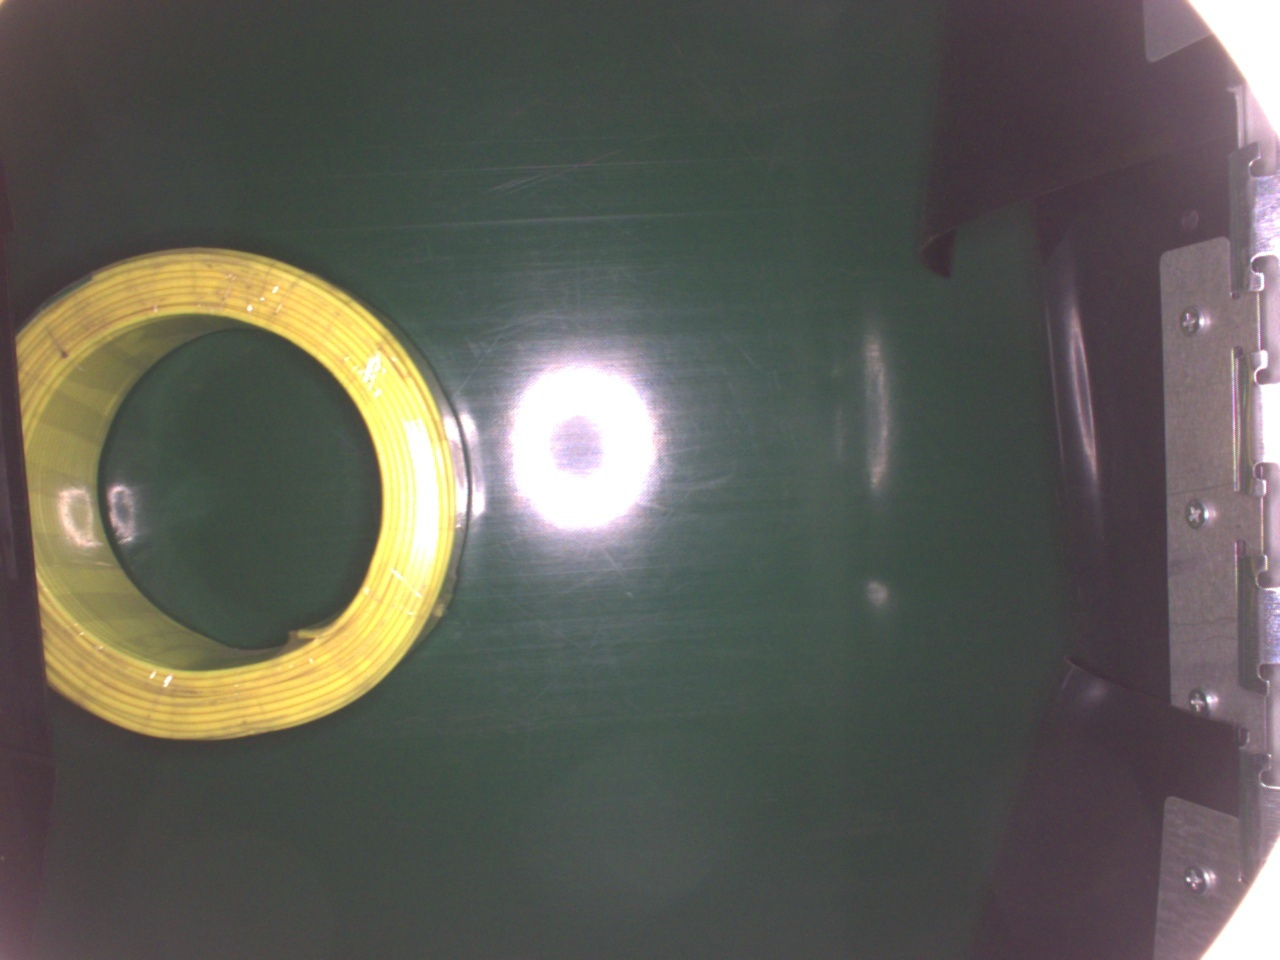yellow: (15, 243, 473, 740)
